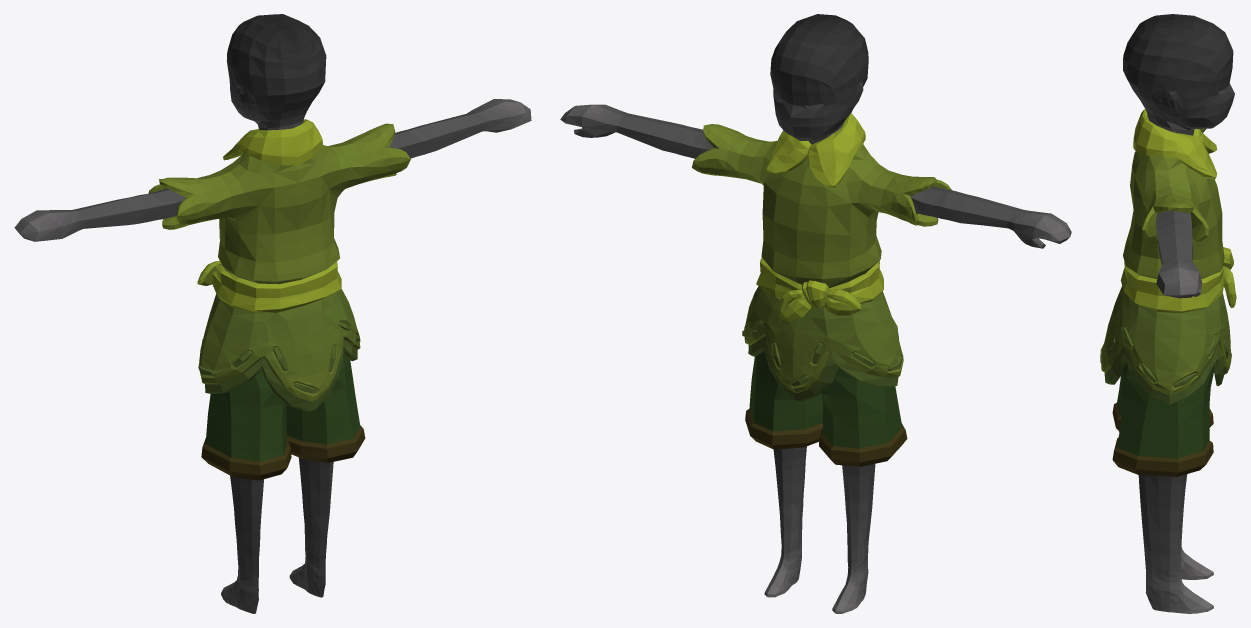
File: CharSkyKid_Body_BloomGreenTunic.glb
3 views of the same model, side by side, from view 1: azimuth 30°, elevation 25°; view 2: azimuth 150°, elevation 25°; view 3: azimuth 270°, elevation 25° (orthographic).
Visible parts, largest first — view 1: CharSkyKid_Body_BloomGreenTunic; view 2: CharSkyKid_Body_BloomGreenTunic; view 3: CharSkyKid_Body_BloomGreenTunic.
Boxes of the visible parts, left/top/right/bottom form: CharSkyKid_Body_BloomGreenTunic: left=14, top=14, right=531, bottom=613; CharSkyKid_Body_BloomGreenTunic: left=560, top=14, right=1071, bottom=613; CharSkyKid_Body_BloomGreenTunic: left=1100, top=14, right=1236, bottom=613.
Bounding box in the file's own units: 13.83 × 14.94 × 3.21.
1 material, 1 textured.
